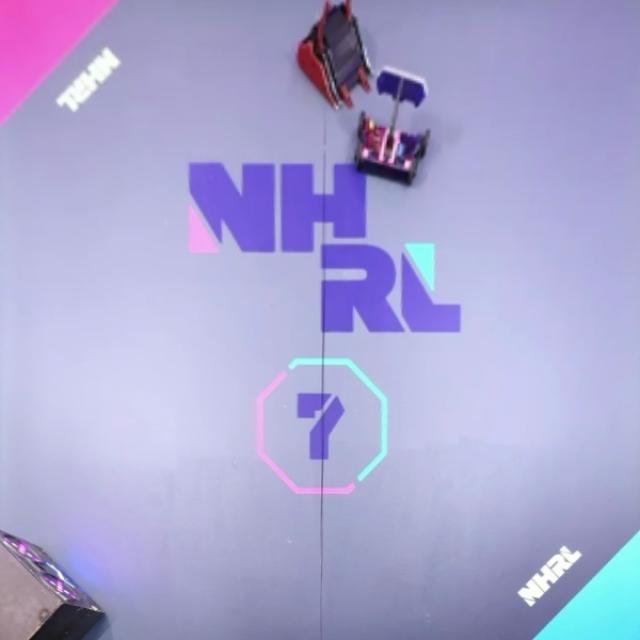housebot: (0, 528, 107, 640)
robot: (354, 66, 430, 188), (294, 0, 376, 112)
